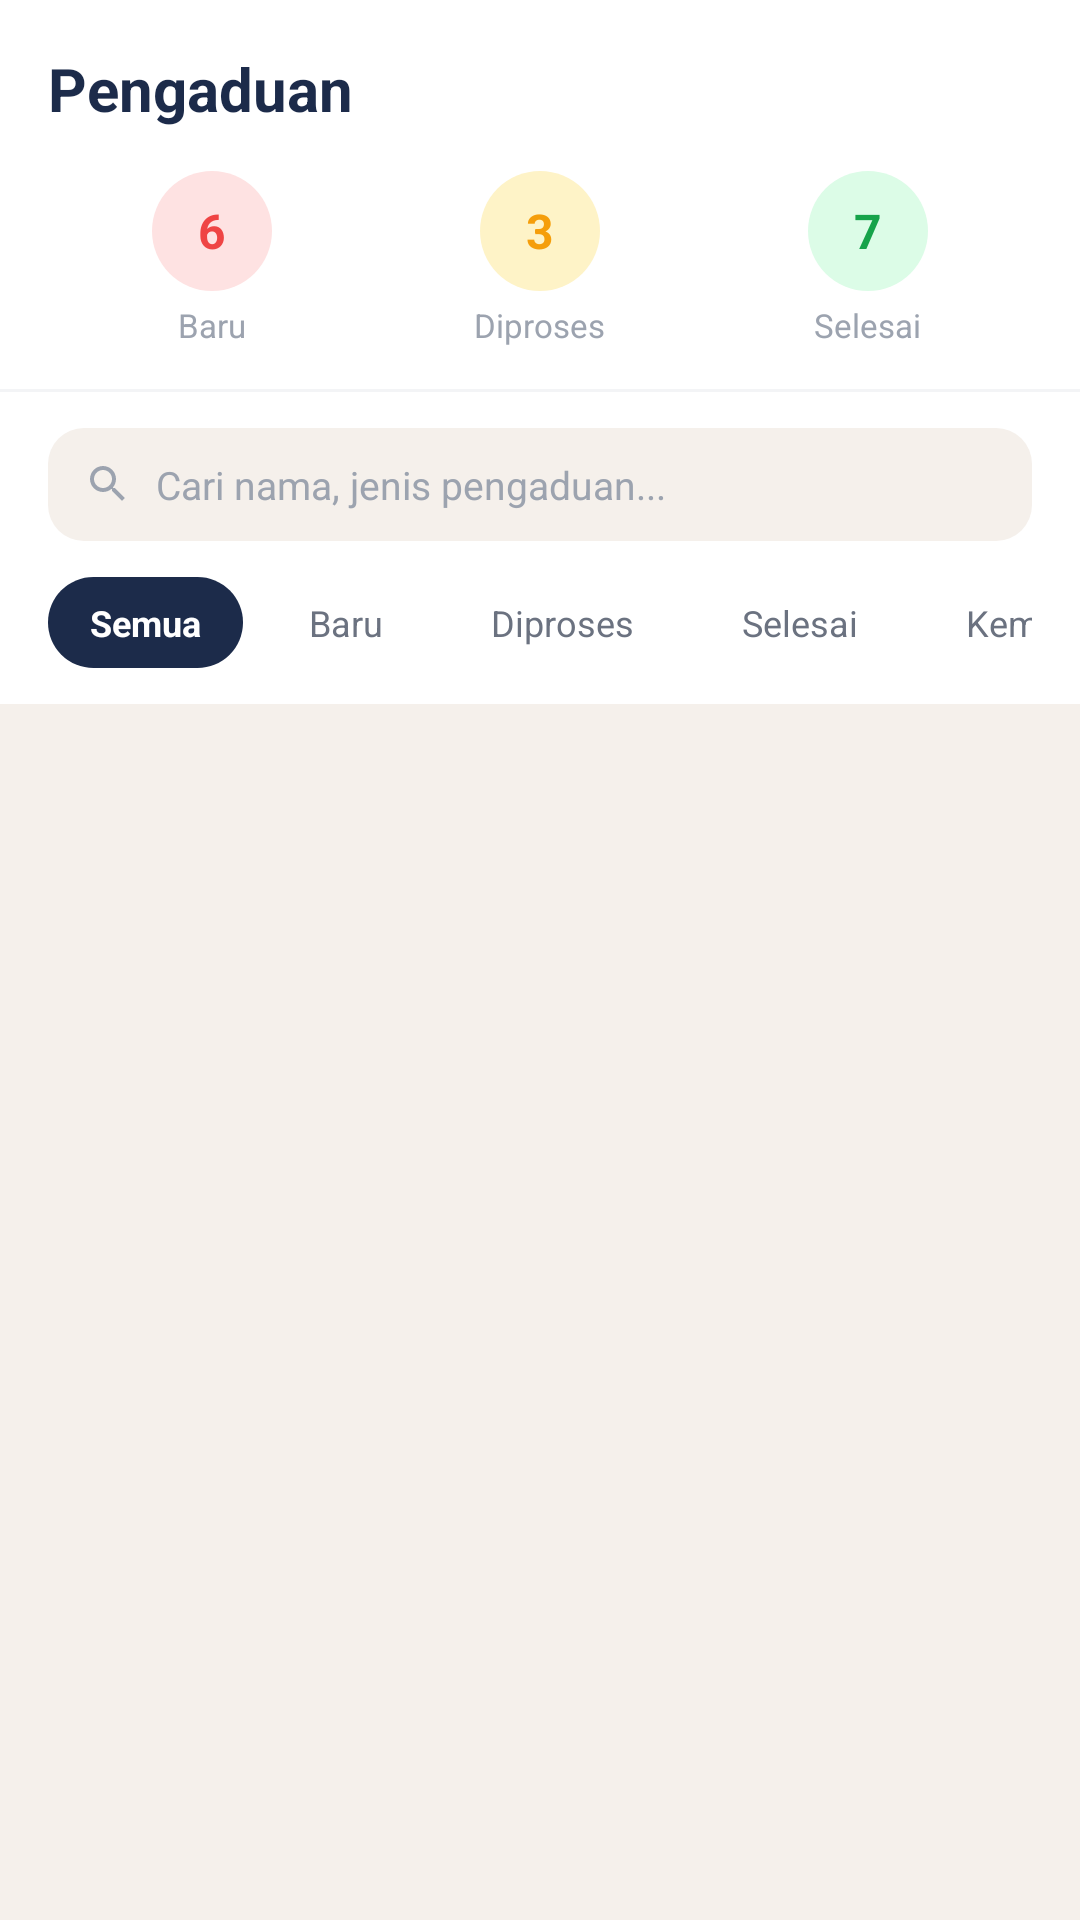

Icons on this 1080x1920 Android screen, each with its box as [x1,y1,x2,y2]:
search: [90,466,125,501]
